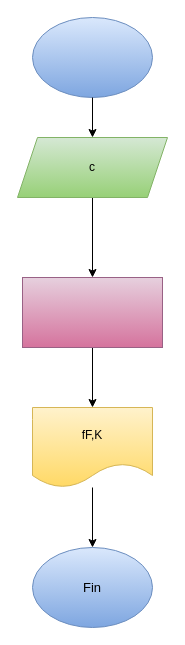
This 185x645 diagram has some shape labels left out. The box of each missing label's shape, as (x1, y1, x2, y2) in pixels:
F= 1.8C + 32 K= C + 273.15: (22, 276, 162, 348)
Inicio: (32, 16, 152, 98)
